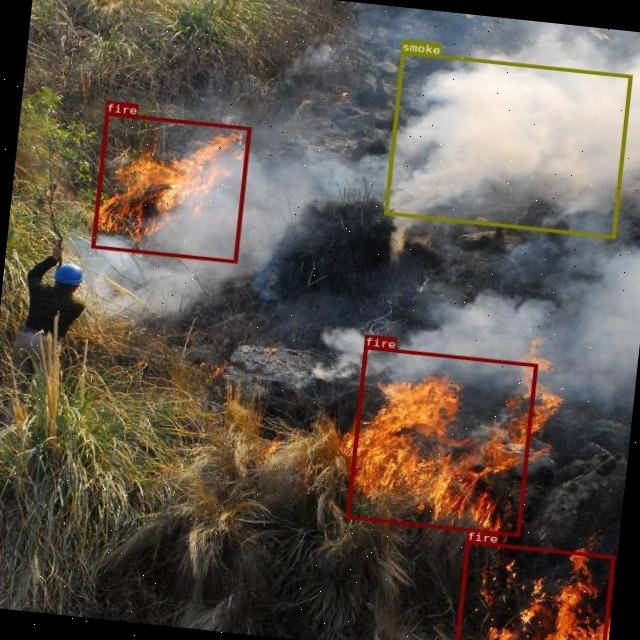fire: (344, 345, 536, 536), (90, 111, 250, 262), (454, 539, 614, 640)
smoke: (382, 50, 632, 237)
